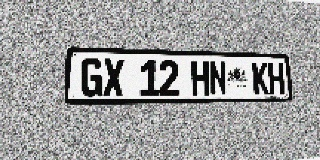1: (140, 59, 159, 96)
2: (160, 60, 179, 96)
G: (80, 58, 103, 97)
H: (191, 61, 210, 95), (268, 62, 285, 95)
K: (252, 62, 269, 95)
N: (209, 61, 227, 95)
X: (103, 59, 124, 97)
